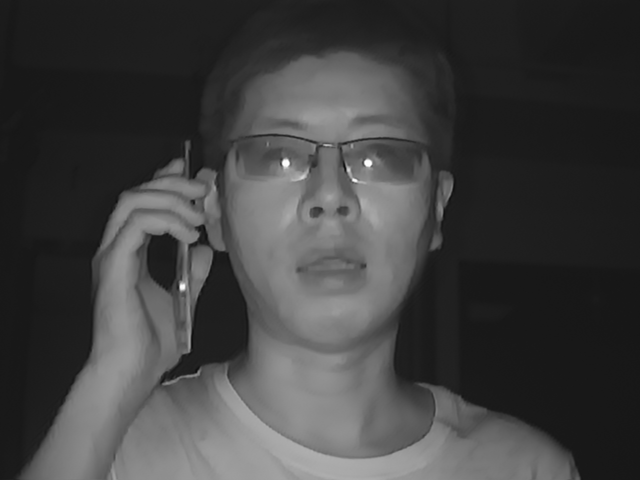hand: (84, 156, 215, 369)
